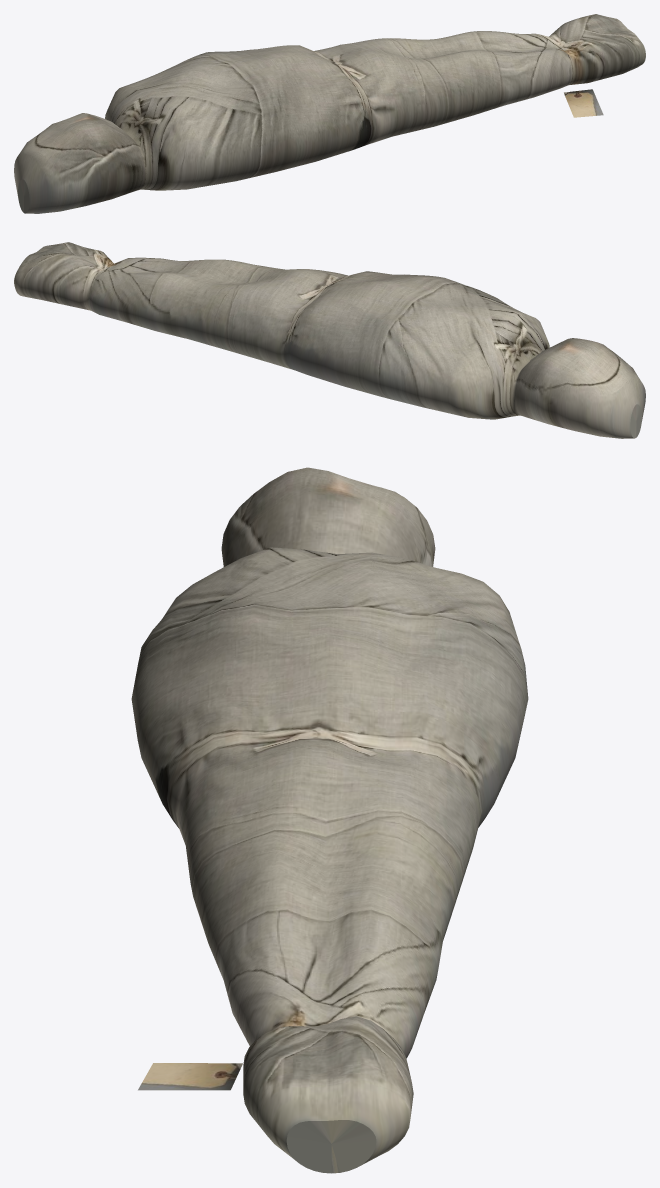
Rendered from yolcu.glb.
3 renders of one model, top to bottom at view 1: azimuth 30°, elevation 25°; view 2: azimuth 150°, elevation 25°; view 3: azimuth 270°, elevation 25°, orthographic. The views are drawn at different scales.
Parts seen in each view (by area): view 1: yolcu, etiket; view 2: yolcu; view 3: yolcu, etiket.
Boxes of the visible parts, x1,y1,x2,y2 form: yolcu: (14,14,645,213); etiket: (564,89,603,117); yolcu: (14,242,645,438); yolcu: (131,467,528,1173); etiket: (138,1063,242,1090).
Bounding box in the file's own units: 1.94 × 0.2829 × 0.5463.
2 materials, 2 textured.
